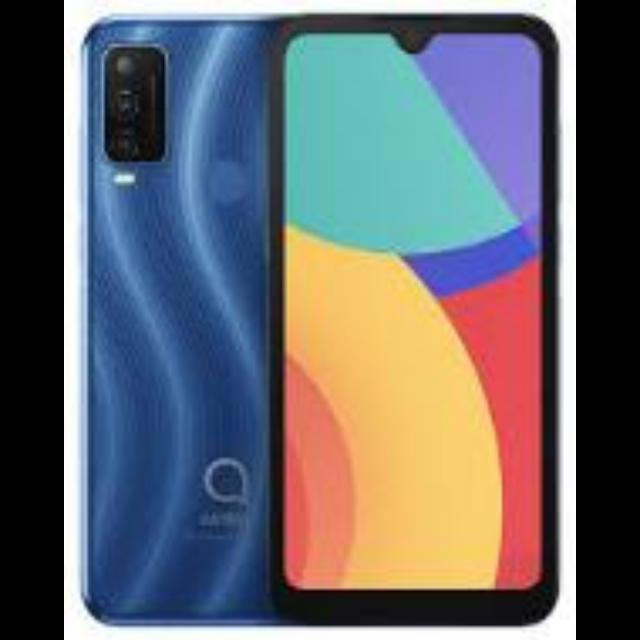Phone: (266, 14, 562, 626), (78, 12, 266, 628)
